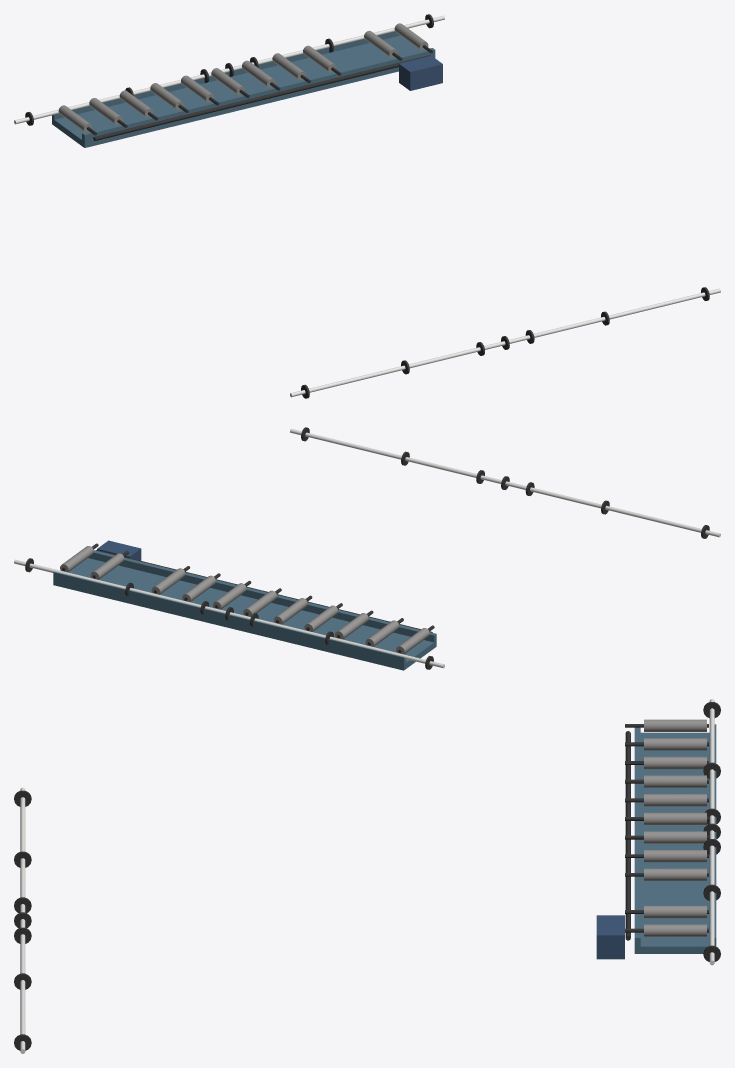
The model's file is board_landing_parts.glb.
3 renders of one model, top to bottom at view 1: azimuth 30°, elevation 25°; view 2: azimuth 150°, elevation 25°; view 3: azimuth 270°, elevation 25°, orthographic. The views are drawn at different scales.
Parts seen in each view (by area): view 1: LT_LiftMesh, LT_HeadMesh, LT_TailMesh; view 2: LT_LiftMesh, LT_HeadMesh, LT_TailMesh, LT_Roll10Mesh, LT_Roll4Mesh, LT_Roll2Mesh, LT_Roll3Mesh, LT_Roll7Mesh, LT_Roll9Mesh, LT_Roll1Mesh, LT_Roll11Mesh, LT_Roll5Mesh (+2 smaller); view 3: LT_LiftMesh, LT_HeadMesh, LT_TailMesh, LT_Roll10Mesh, LT_Roll6Mesh, LT_Roll3Mesh, LT_Roll11Mesh, LT_Roll2Mesh, LT_Roll4Mesh, LT_Roll5Mesh, LT_Roll7Mesh, LT_Roll1Mesh (+2 smaller).
Boxes of the visible parts, bbox=[...] form: LT_LiftMesh: bbox=[52, 31, 442, 147]; LT_HeadMesh: bbox=[290, 287, 720, 398]; LT_TailMesh: bbox=[14, 14, 444, 125]; LT_LiftMesh: bbox=[53, 540, 436, 670]; LT_HeadMesh: bbox=[290, 427, 720, 538]; LT_TailMesh: bbox=[14, 558, 444, 669]; LT_Roll10Mesh: bbox=[90, 551, 128, 579]; LT_Roll4Mesh: bbox=[304, 603, 342, 631]; LT_Roll2Mesh: bbox=[365, 618, 403, 646]; LT_Roll3Mesh: bbox=[335, 610, 373, 639]; LT_Roll7Mesh: bbox=[213, 580, 251, 609]; LT_Roll9Mesh: bbox=[151, 566, 190, 594]; LT_Roll1Mesh: bbox=[396, 625, 434, 654]; LT_Roll11Mesh: bbox=[60, 543, 98, 572]; LT_Roll5Mesh: bbox=[274, 595, 312, 624]; LT_LiftMesh: bbox=[596, 724, 716, 959]; LT_HeadMesh: bbox=[14, 787, 31, 1053]; LT_TailMesh: bbox=[703, 699, 720, 965]; LT_Roll10Mesh: bbox=[625, 905, 708, 918]; LT_Roll6Mesh: bbox=[625, 812, 708, 825]; LT_Roll3Mesh: bbox=[625, 756, 708, 769]; LT_Roll11Mesh: bbox=[625, 924, 708, 936]; LT_Roll2Mesh: bbox=[625, 738, 708, 750]; LT_Roll4Mesh: bbox=[625, 775, 708, 787]; LT_Roll5Mesh: bbox=[625, 794, 708, 806]; LT_Roll7Mesh: bbox=[625, 831, 708, 843]; LT_Roll1Mesh: bbox=[625, 719, 708, 731].
Bounding box in the file's own units: 5.9 × 1.11 × 6.74.
